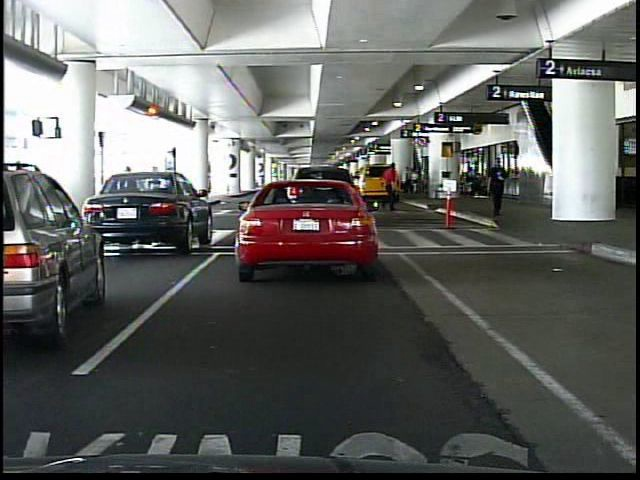person: (116, 161, 145, 236), (490, 156, 510, 220), (380, 162, 398, 217), (404, 163, 417, 200)
